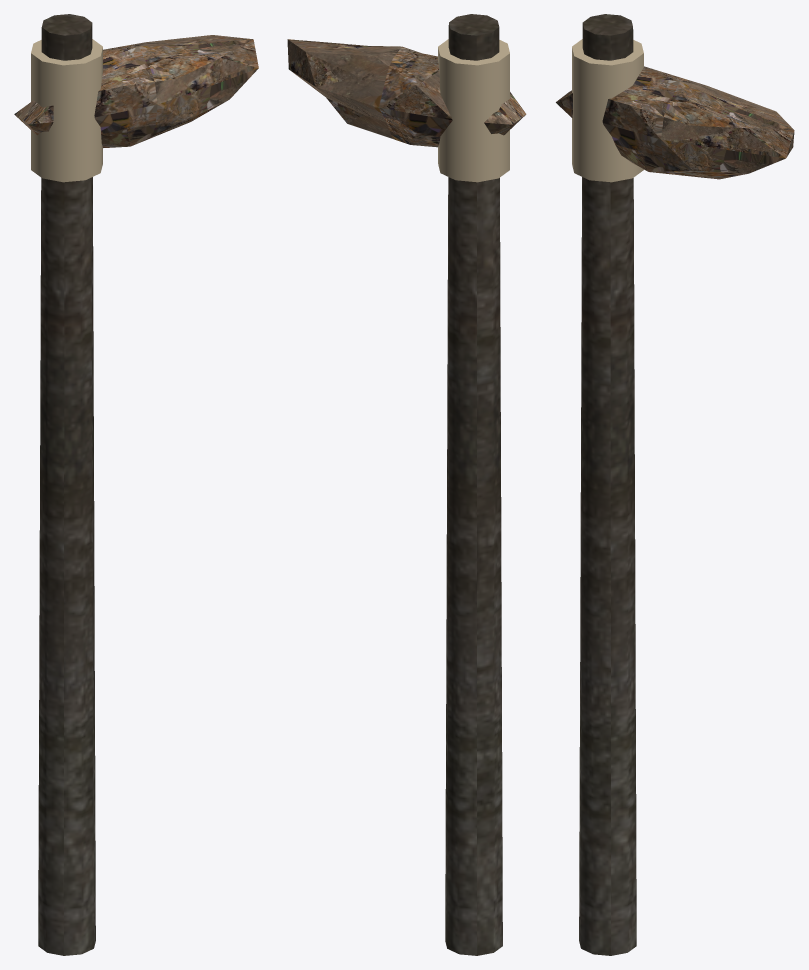
Rendered from stone_axe.glb.
The picture shows the model from 3 angles, left to right: view 1: azimuth 30°, elevation 25°; view 2: azimuth 150°, elevation 25°; view 3: azimuth 330°, elevation 25°; orthographic projection.
Visible parts, largest first — view 1: handle, head, lash; view 2: handle, head, lash; view 3: handle, head, lash.
Part boxes in pixels (<box>): handle: <box>38,14,95,955</box>; head: <box>14,35,258,147</box>; lash: <box>31,39,102,182</box>; handle: <box>445,14,502,955</box>; head: <box>287,39,526,147</box>; lash: <box>438,39,509,182</box>; handle: <box>579,14,636,955</box>; head: <box>556,66,794,179</box>; lash: <box>572,39,643,182</box>.
Size of the model in its own units: 0.1456 by 0.55 by 0.0456.
Materials: 3 (2 with a texture image).
